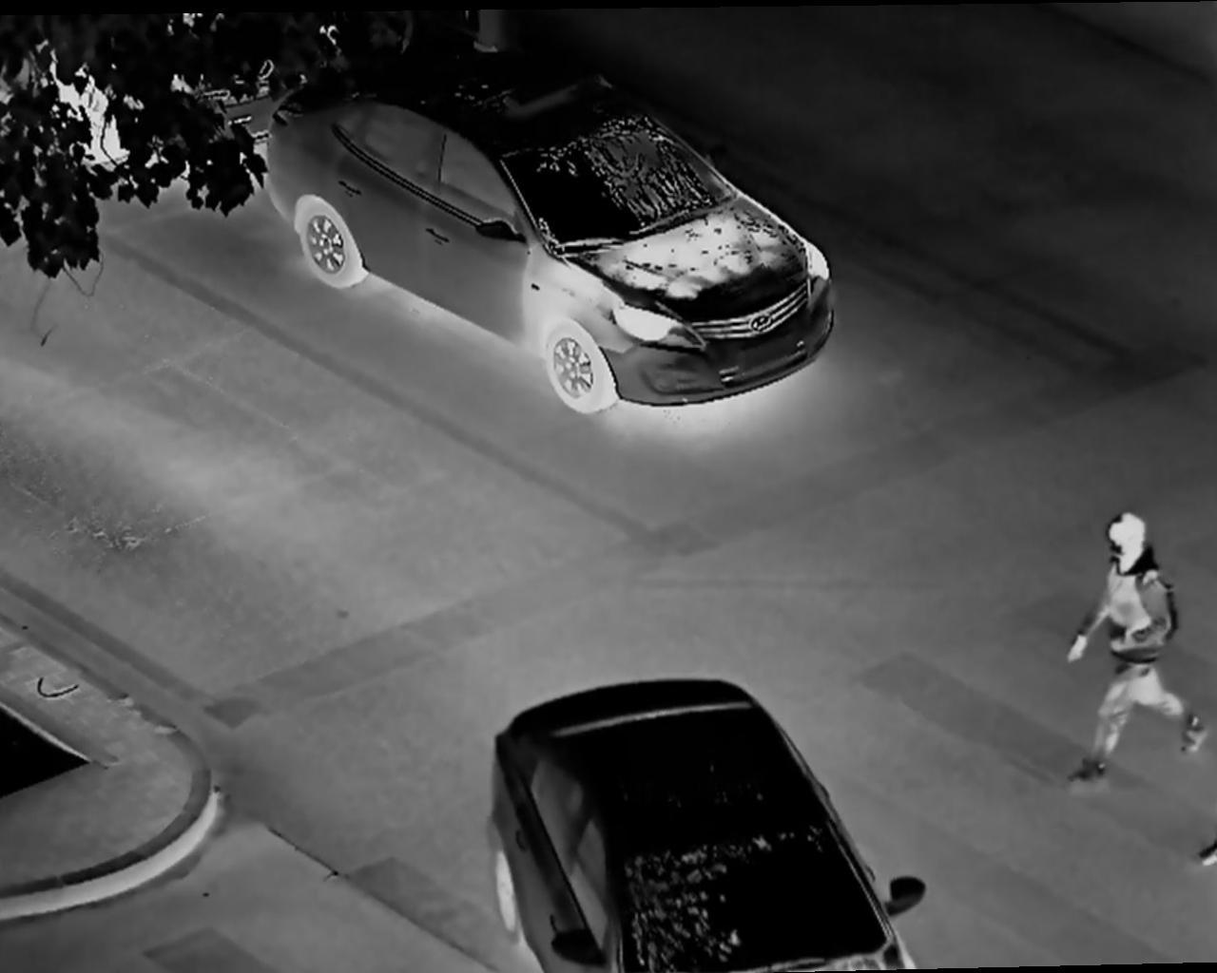person: (1061, 500, 1202, 801)
